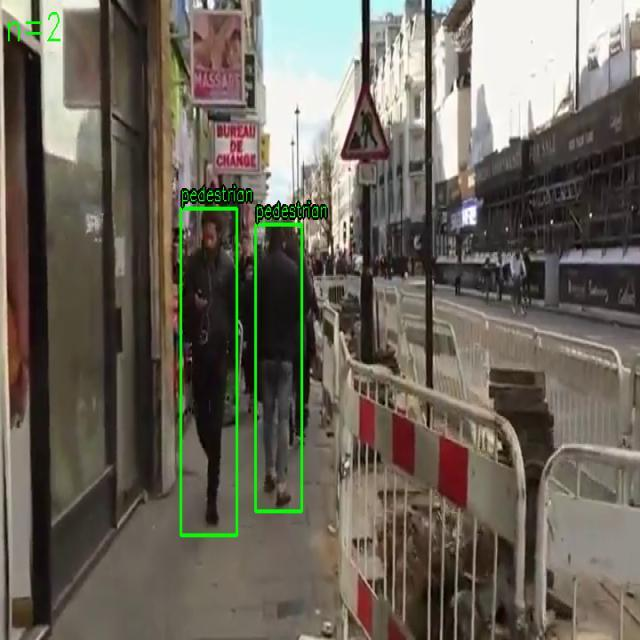with scooter: (180, 208, 238, 536), (255, 224, 302, 512)
